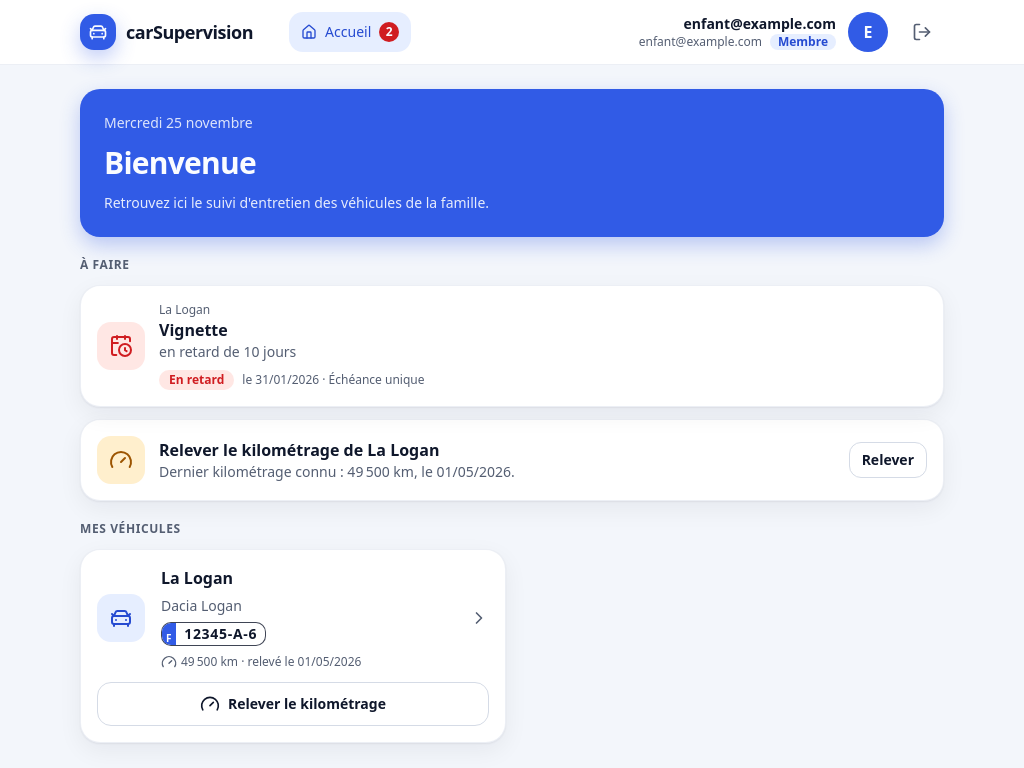
Scenario: rappels de l’accueil › liste les échéances et le relevé à faire, avec une pastille dans la navigation
Check: the text "en retard de 10 jours" is shown, box [159,342,296,361]
Check: the text "Relever le kilométrage de La Logan" is shown, box [159,438,439,462]
Click the button with aria-label "Relever le kilométrage de La Logan": [888, 460] box [849,442,927,478]
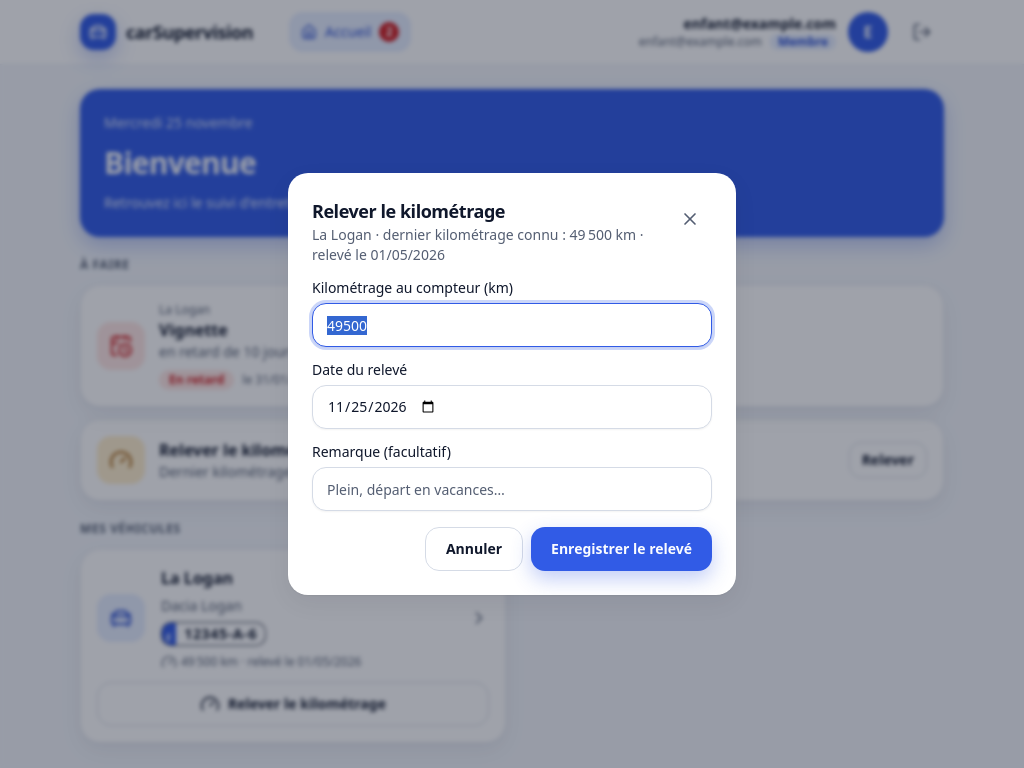
Check: the dialog "Relever le kilométrage" is shown, box [288,173,736,595]
